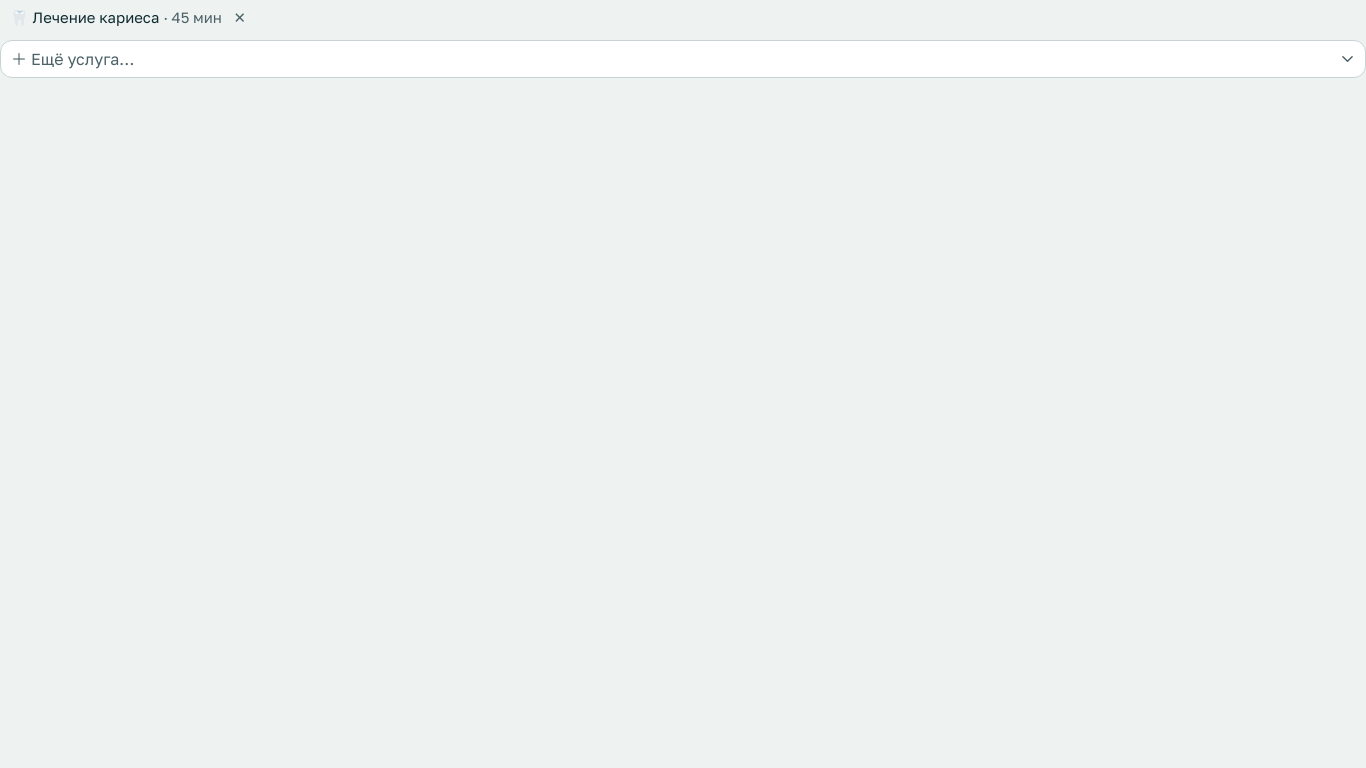
multiple: выбранные — чипами с ✕, в списке их нет; добавили и убрали
Later steps or results of the test are not shown.
Expected: the list named "Выбранные услуги" shows "Лечение кариеса · 45 мин", [10,3,254,31]
What coordinates should you click on to do the following:
click the dropdown named "Услуги"
I would click on:
 (73, 59)
Its box is [0,40,1365,78].
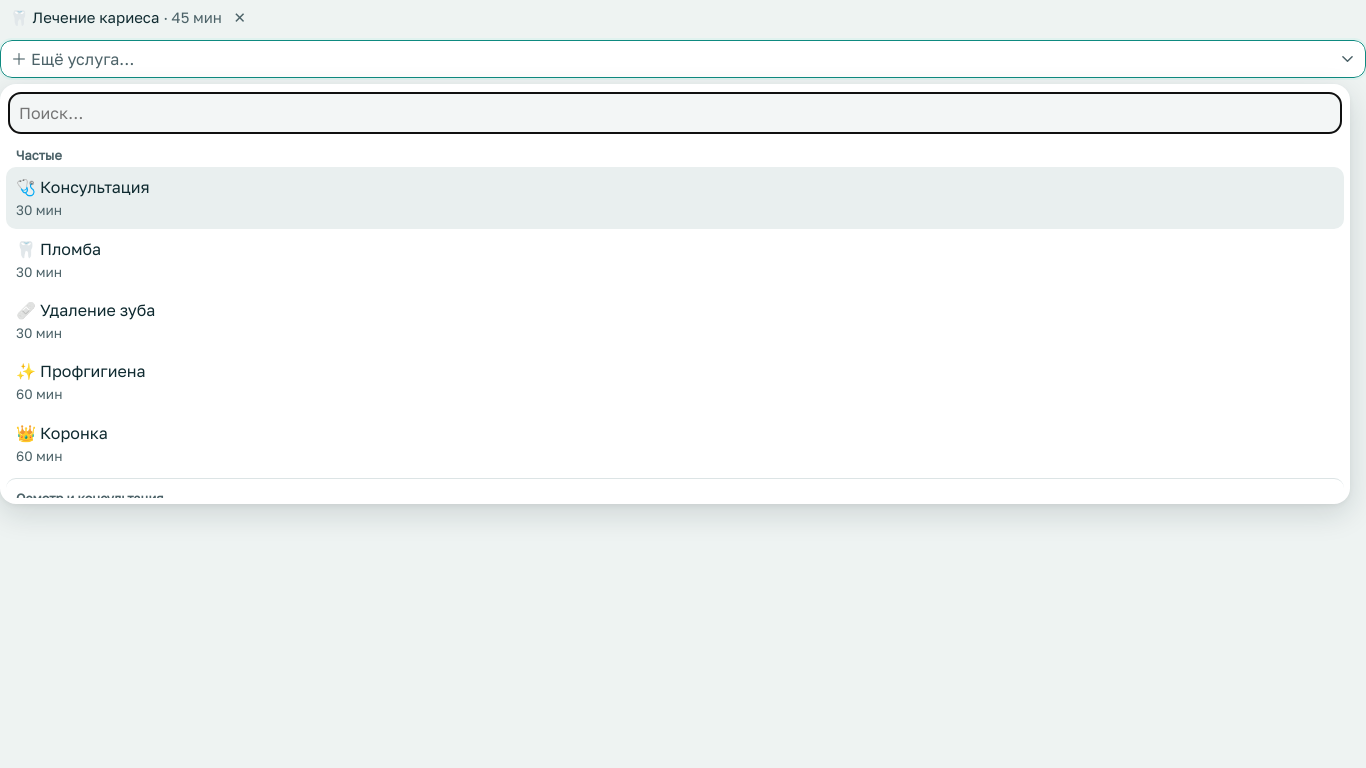
What coordinates should you click on to do the following:
click the option "👑 Коронка 60 мин"
I would click on:
 (62, 443)
Its box is [16,423,108,464].
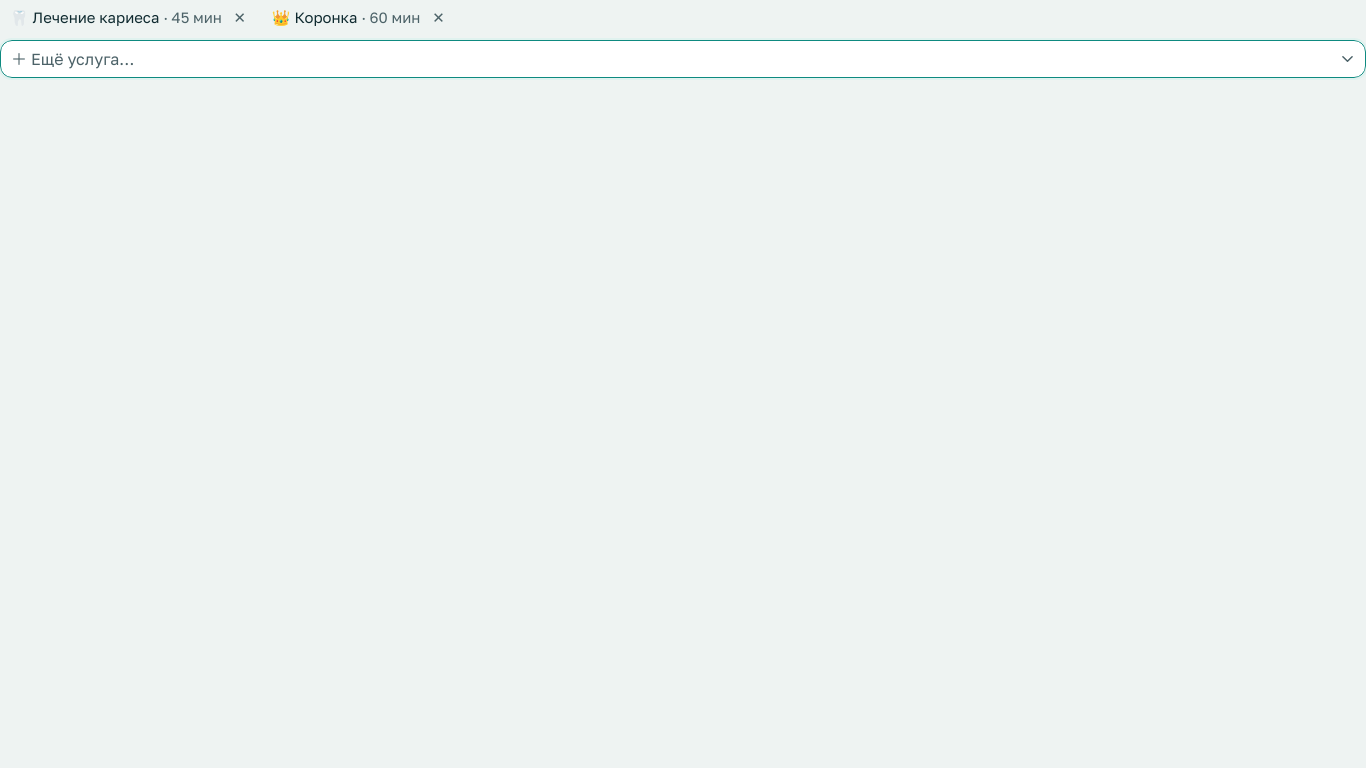
Expected: the list named "Выбранные услуги" shows "Коронка · 60 мин", [10,3,452,31]
What coordinates should you click on to do the following:
click the button named "Убрать: Лечение кариеса"
I would click on:
 (240, 17)
Its box is [226,3,254,31].
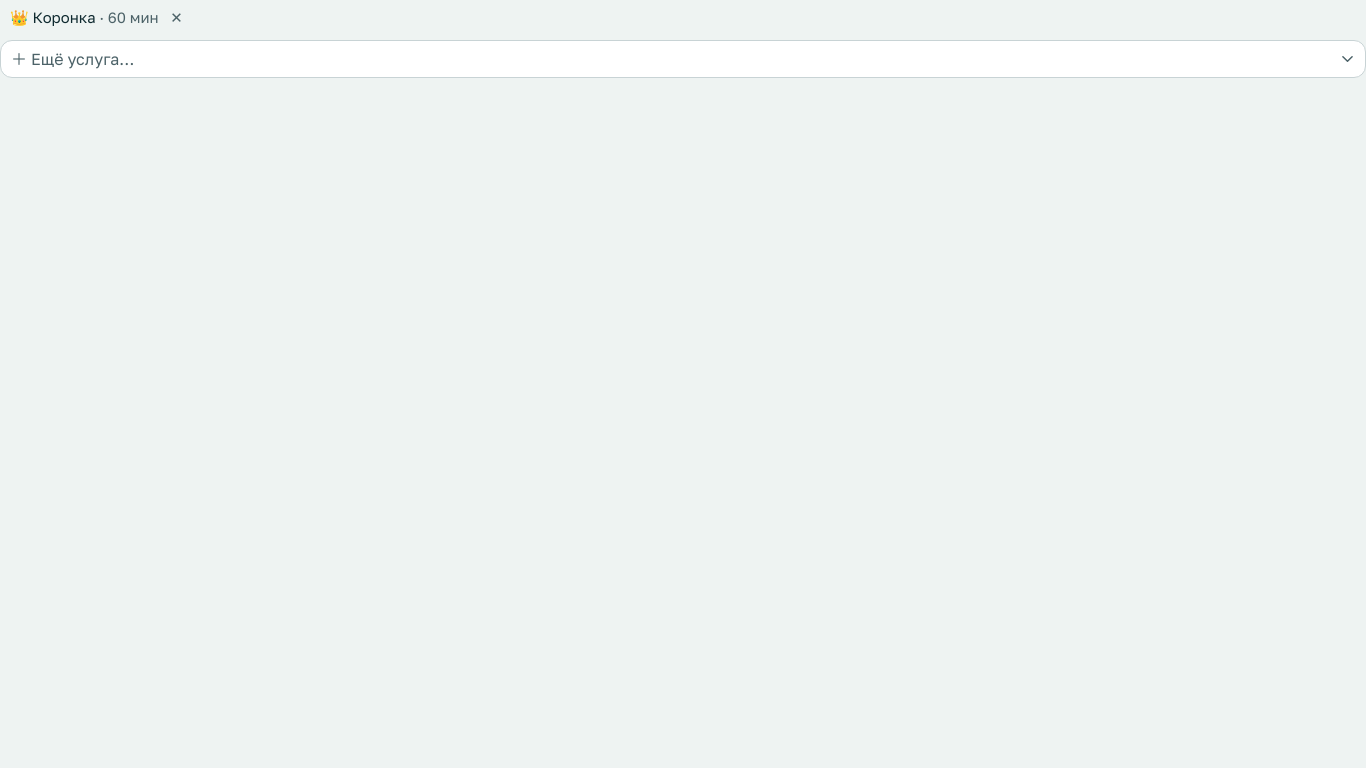
Expected: the list named "Выбранные услуги" no longer shows "Лечение кариеса", [10,3,191,31]
